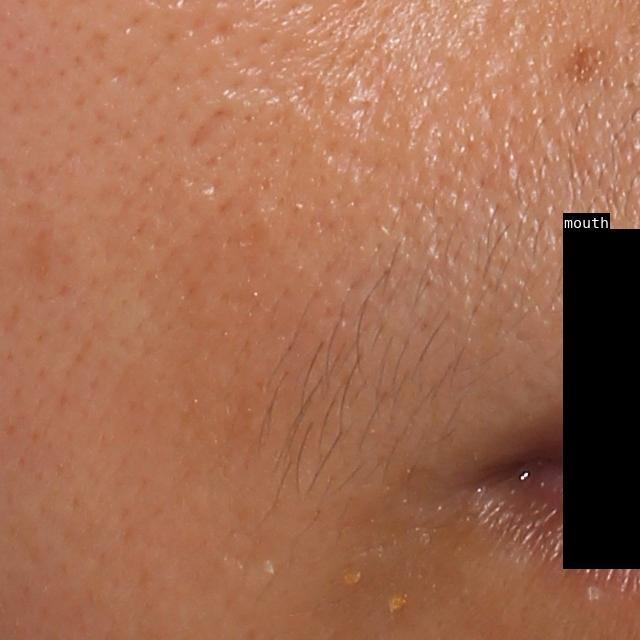atrophic_scar: (189, 102, 240, 152)
other: (380, 591, 418, 616)
